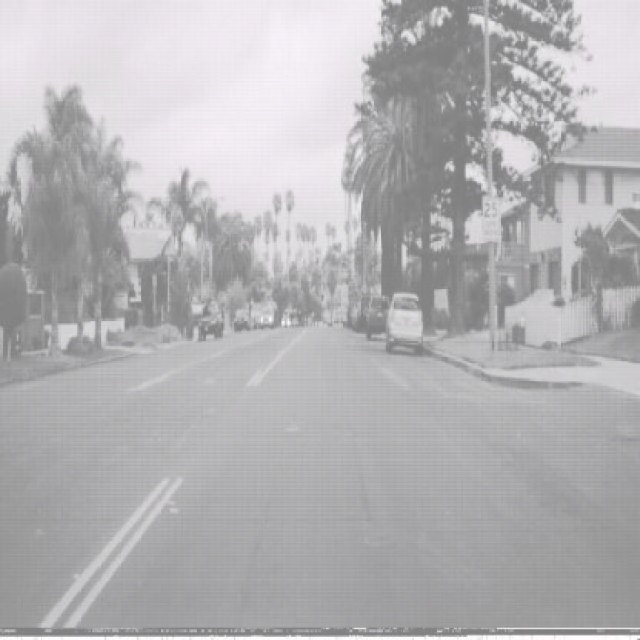zoneAhead25: (482, 195, 499, 239)
